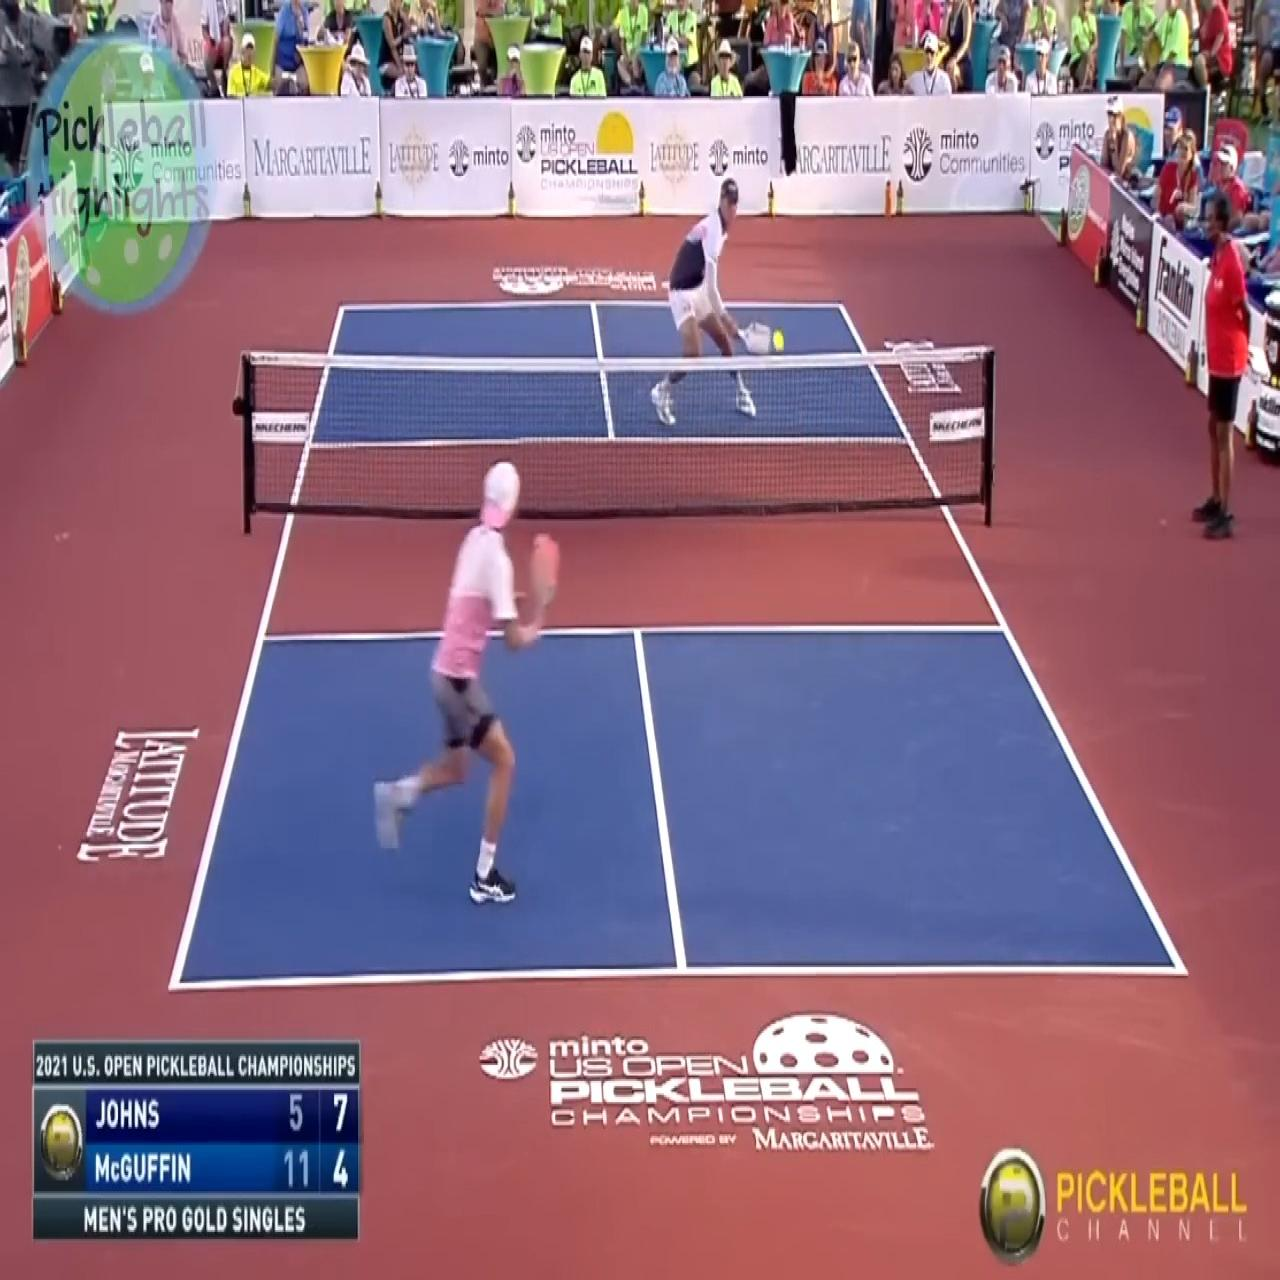pickleball: (771, 329, 784, 352)
